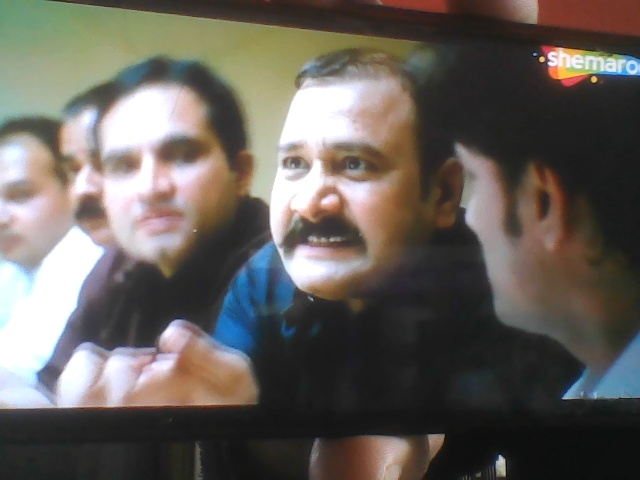fake: (251, 8, 468, 315), (85, 48, 242, 270)
